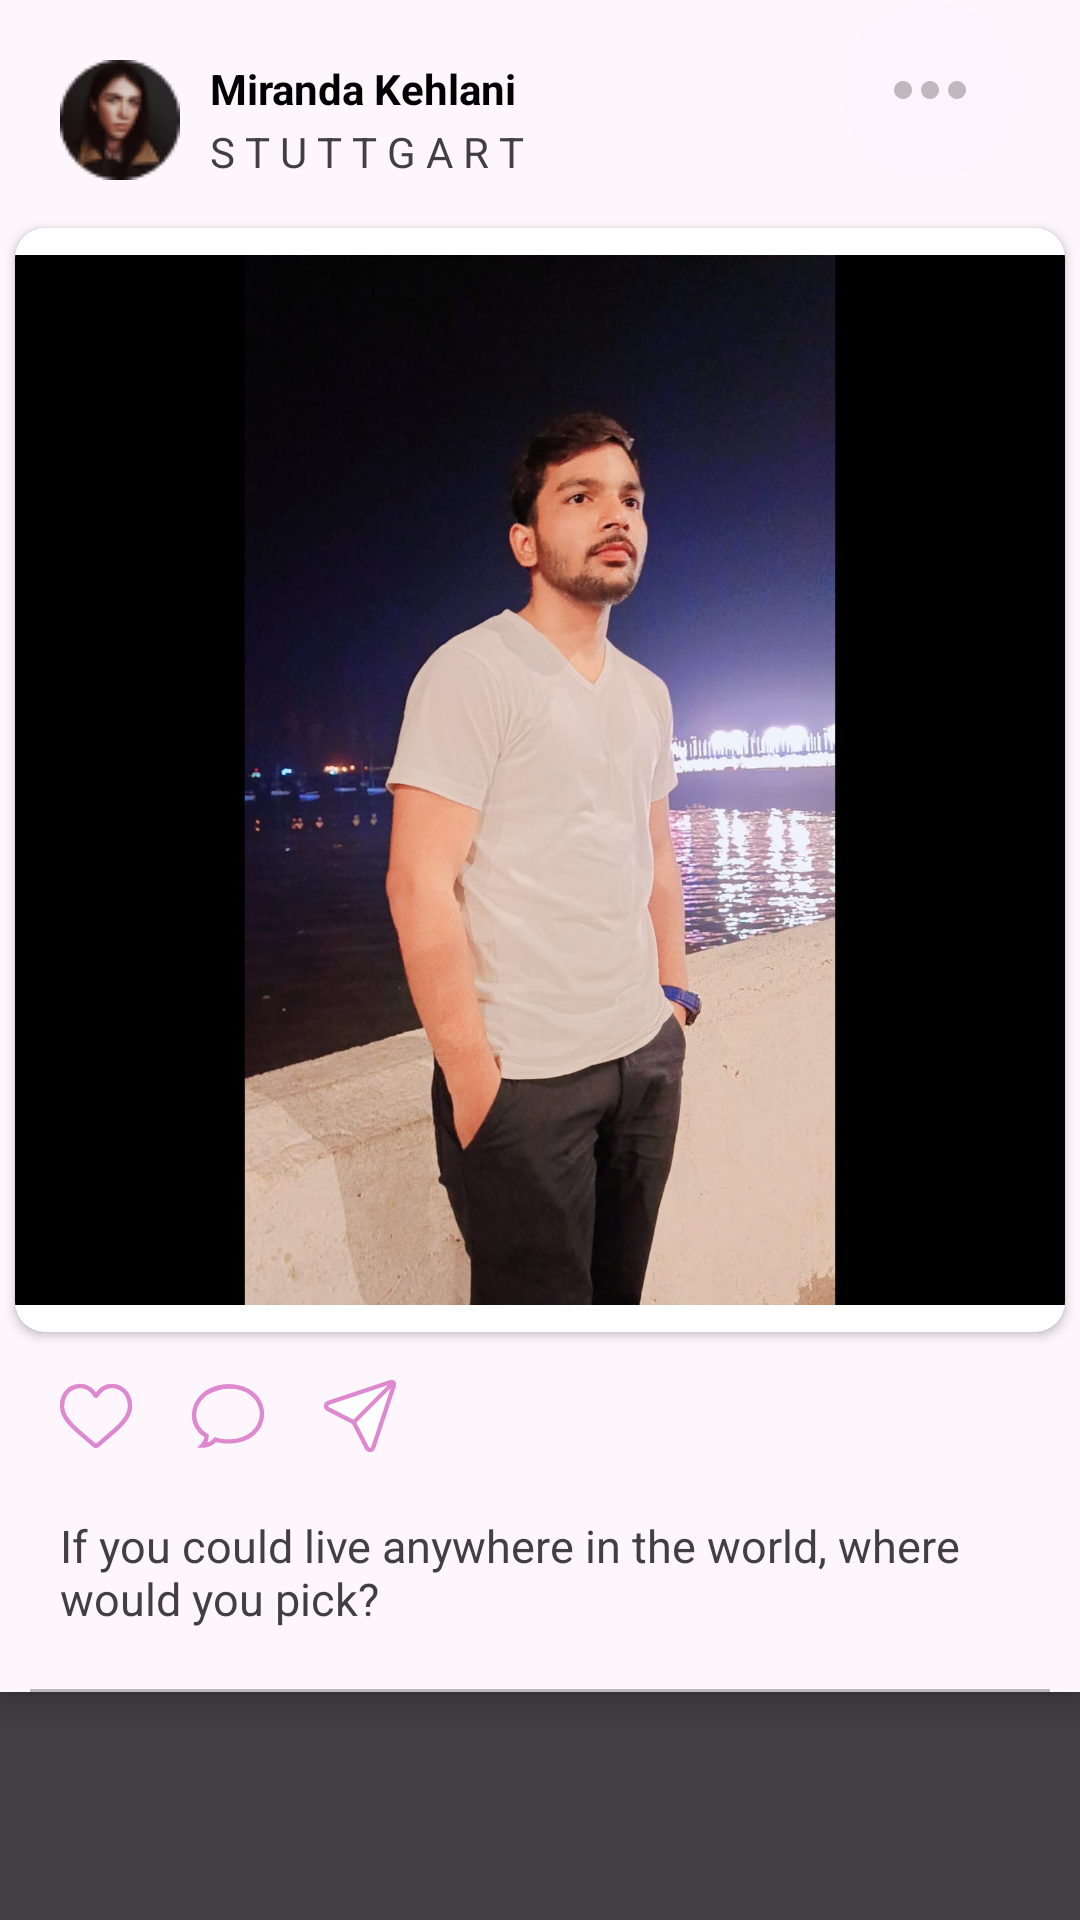

Screen size 1080px x 1920px. Icon name, then its box in pixels as (x1, y1, x2, y2):
heart: (60, 1383, 132, 1448)
more: (894, 81, 966, 99)
person pic: (60, 60, 180, 180)
send: (324, 1380, 396, 1452)
speech bubble: (192, 1384, 264, 1448)
